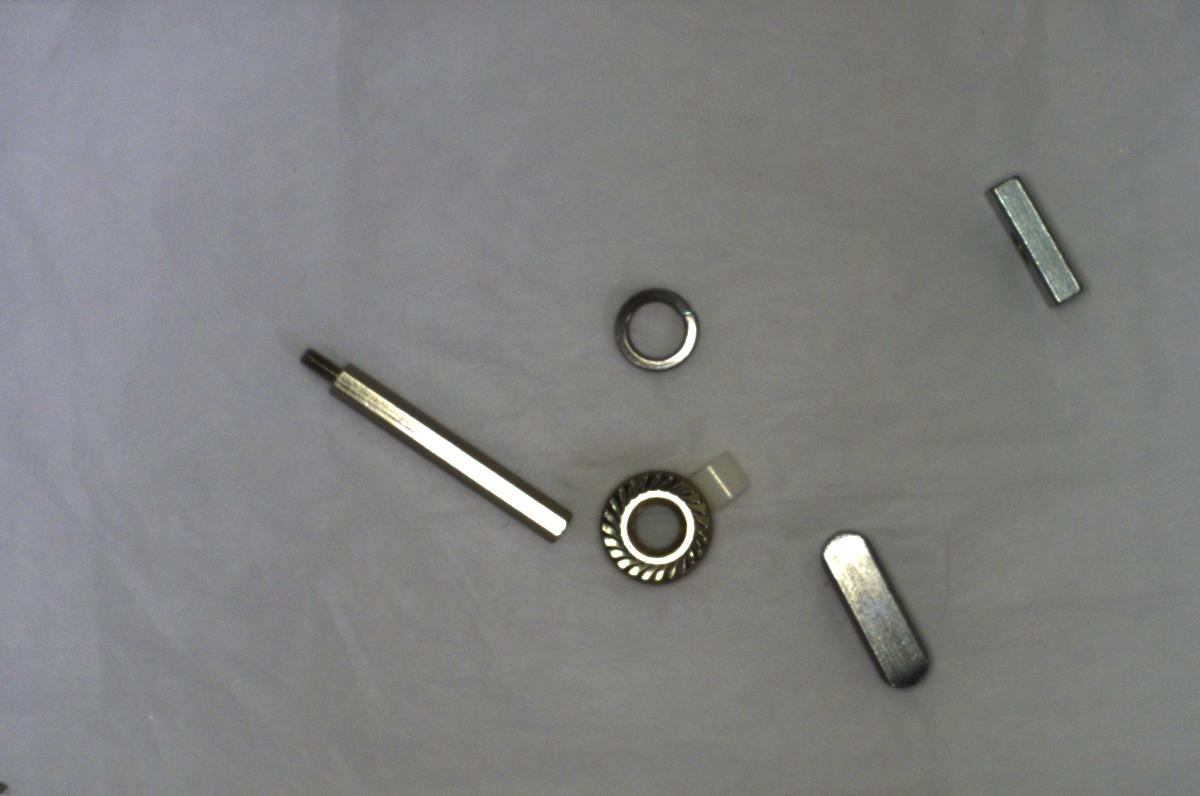Flange nut: (591, 467, 724, 592)
Hexagonal steel column: (291, 340, 573, 545)
Keybar: (813, 523, 942, 696)
Plastic cushion pillar: (679, 442, 755, 513)
Rectangular nut: (980, 168, 1081, 312)
Spring washer: (607, 276, 702, 381)
